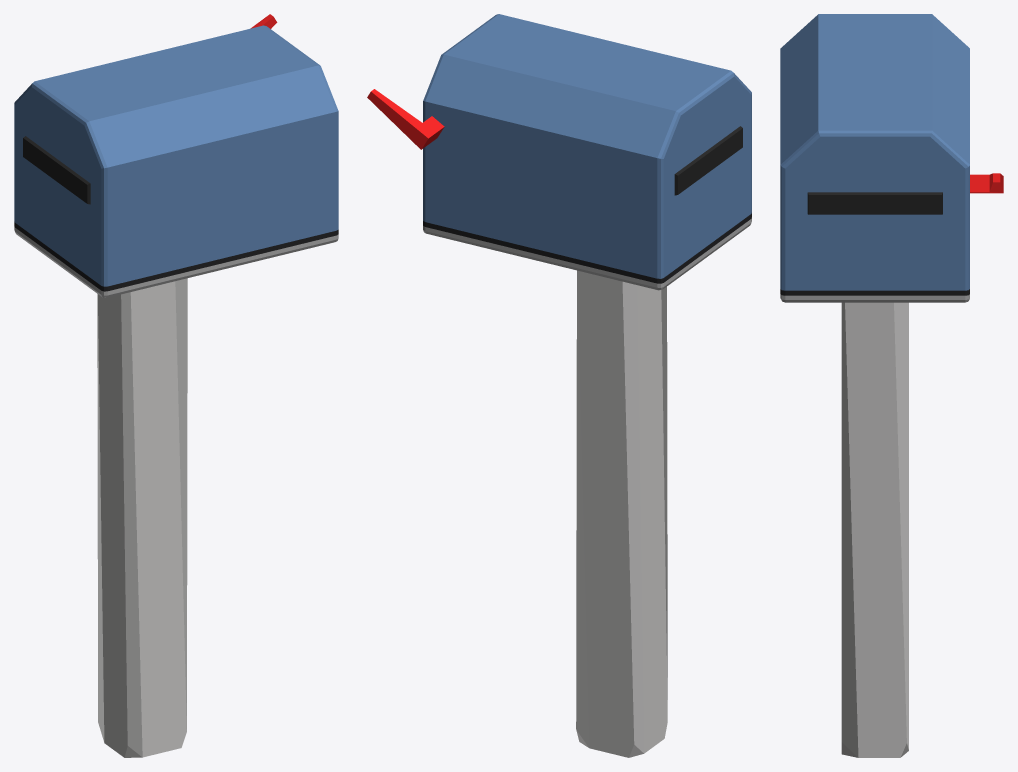
Rendered from SM_MailBox.fbx.
The picture shows the model from 3 angles, left to right: view 1: azimuth 30°, elevation 25°; view 2: azimuth 150°, elevation 25°; view 3: azimuth 270°, elevation 25°; orthographic projection. The views are drawn at different scales.
Parts seen in each view (by area): view 1: SM_MailBox_LOD0; view 2: SM_MailBox_LOD0; view 3: SM_MailBox_LOD0.
Boxes of the visible parts, x1,y1,x2,y2 form: SM_MailBox_LOD0: (14, 14, 338, 757); SM_MailBox_LOD0: (367, 14, 751, 757); SM_MailBox_LOD0: (780, 14, 1003, 757).
Bounding box in the file's own units: 49.48 × 32.93 × 112.
1 material, 1 textured.
